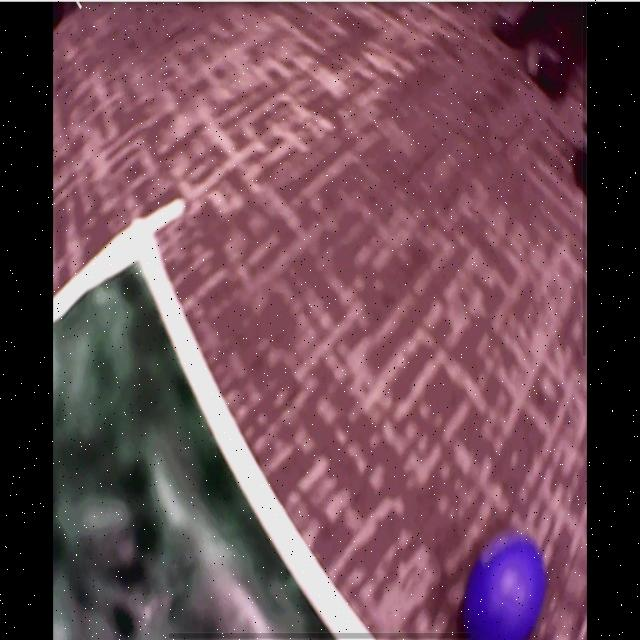ball: (463, 538, 547, 640)
